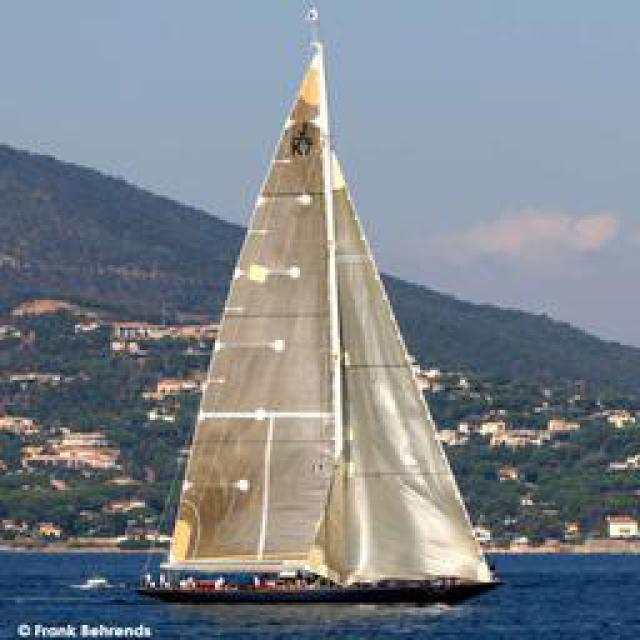Ship: (152, 31, 502, 614)
